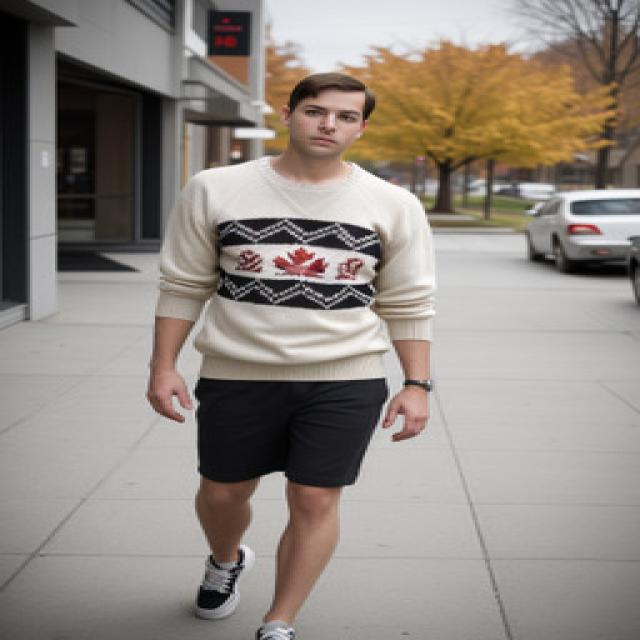Ai human 2: (114, 66, 471, 639)
